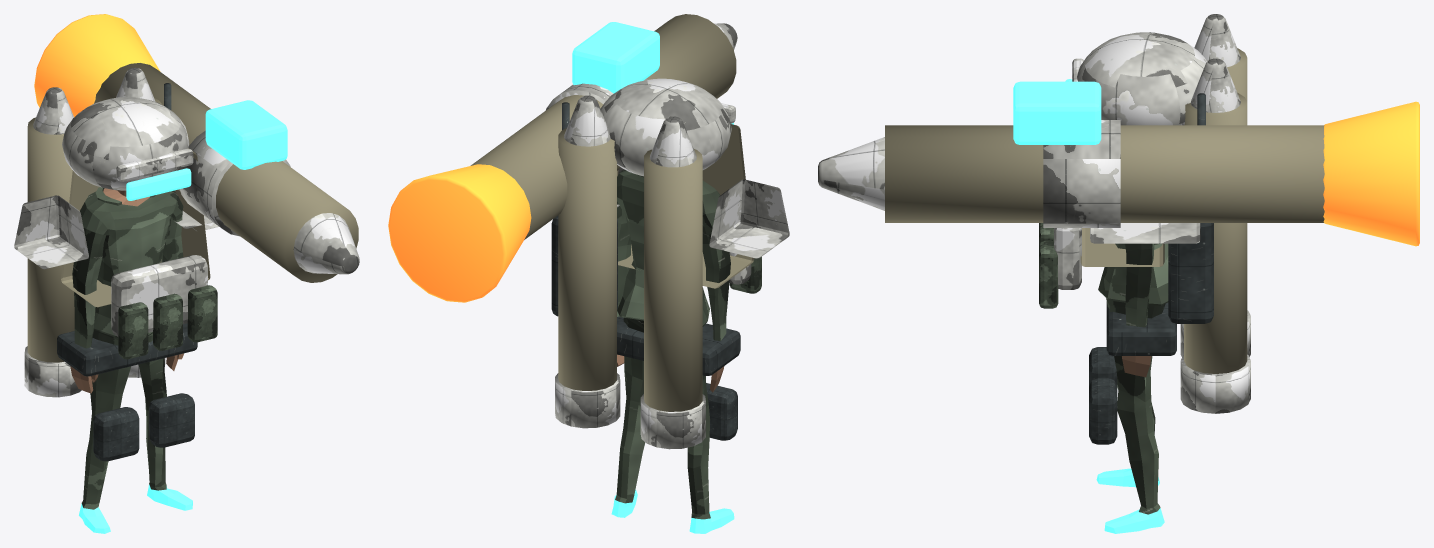
File: rocket_soldier.glb
3 views of the same model, side by side, from view 1: azimuth 30°, elevation 25°; view 2: azimuth 150°, elevation 25°; view 3: azimuth 270°, elevation 25° (orthographic). The views are drawn at different scales.
Parts seen in each view (by area): view 1: rocket_soldier_rocket_armor, rocket_soldier_team_primary, BaseHuman_baked, rocket_soldier_team_accent, rocket_soldier_armor_dark, rocket_soldier_warning_emissive, rocket_soldier_glass_emissive, rocket_soldier_fabric_dark; view 2: rocket_soldier_rocket_armor, rocket_soldier_team_primary, rocket_soldier_warning_emissive, BaseHuman_baked, rocket_soldier_armor_dark, rocket_soldier_glass_emissive, rocket_soldier_team_accent, rocket_soldier_fabric_dark; view 3: rocket_soldier_rocket_armor, rocket_soldier_team_primary, rocket_soldier_warning_emissive, BaseHuman_baked, rocket_soldier_armor_dark, rocket_soldier_team_accent, rocket_soldier_glass_emissive, rocket_soldier_fabric_dark.
Boxes of the visible parts, x1=… form: rocket_soldier_rocket_armor: x1=27, y1=63, x2=358, y2=362; rocket_soldier_team_primary: x1=14, y1=97, x2=290, y2=397; BaseHuman_baked: x1=70, y1=187, x2=192, y2=533; rocket_soldier_team_accent: x1=33, y1=68, x2=359, y2=336; rocket_soldier_armor_dark: x1=57, y1=83, x2=197, y2=461; rocket_soldier_warning_emissive: x1=34, y1=14, x2=160, y2=117; rocket_soldier_glass_emissive: x1=126, y1=100, x2=287, y2=200; rocket_soldier_fabric_dark: x1=118, y1=285, x2=217, y2=359; rocket_soldier_rocket_armor: x1=470, y1=14, x2=754, y2=411; rocket_soldier_team_primary: x1=545, y1=78, x2=789, y2=449; rocket_soldier_warning_emissive: x1=388, y1=164, x2=531, y2=302; BaseHuman_baked: x1=611, y1=169, x2=734, y2=533; rocket_soldier_armor_dark: x1=551, y1=102, x2=740, y2=440; rocket_soldier_glass_emissive: x1=572, y1=22, x2=733, y2=124; rocket_soldier_team_accent: x1=564, y1=23, x2=751, y2=284; rocket_soldier_fabric_dark: x1=729, y1=256, x2=761, y2=293; rocket_soldier_rocket_armor: x1=885, y1=48, x2=1324, y2=373; rocket_soldier_team_primary: x1=1043, y1=32, x2=1250, y2=413; rocket_soldier_warning_emissive: x1=1323, y1=101, x2=1419, y2=246; BaseHuman_baked: x1=1096, y1=243, x2=1168, y2=533; rocket_soldier_armor_dark: x1=1089, y1=93, x2=1213, y2=444; rocket_soldier_team_accent: x1=818, y1=14, x2=1240, y2=289; rocket_soldier_glass_emissive: x1=1013, y1=79, x2=1101, y2=144; rocket_soldier_fabric_dark: x1=1039, y1=223, x2=1058, y2=308.
Bounding box in the file's own units: 0.8958 × 1.46 × 1.71.
Materials: 8 (4 with a texture image).
